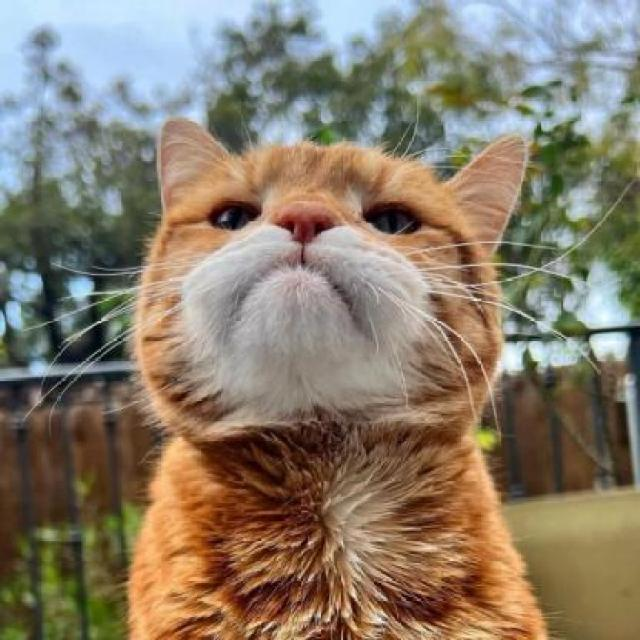cat: (115, 95, 560, 640)
